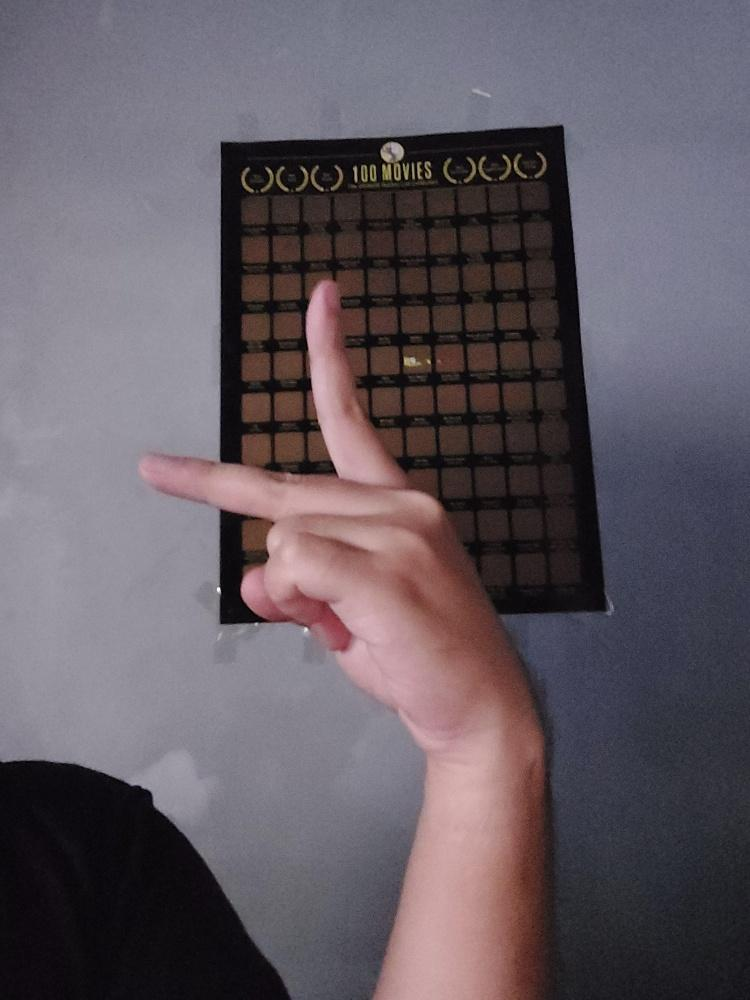k: (139, 276, 546, 730)
